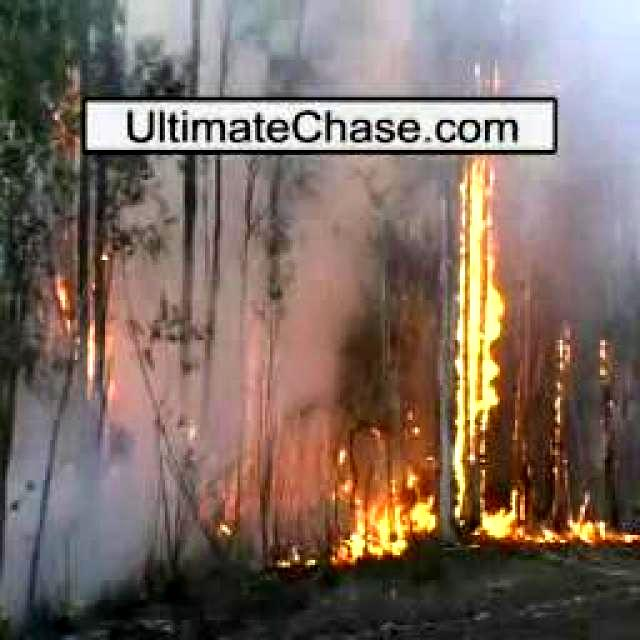fire: (458, 68, 494, 508), (316, 445, 439, 555), (43, 261, 127, 407), (490, 510, 636, 548), (40, 66, 92, 162), (548, 332, 578, 472), (594, 344, 614, 404)
